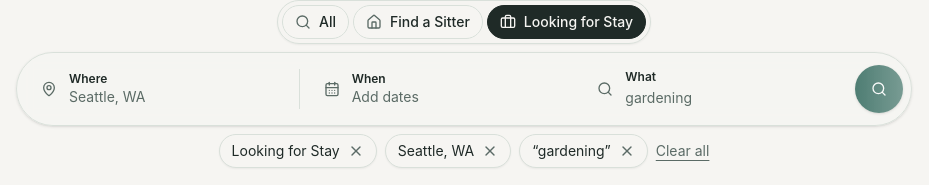
Test: <QuickSearch /> › renders chips from defaults and clears keyword chip
The width and height of the screenshot is (929, 185).
Expected: the 1st text "Seattle, WA" is shown, [69, 87, 146, 107]
Expected: the 1st text "Looking for Stay" is shown, [524, 12, 633, 32]
Click the button "“gardening”" at (583, 151), box [519, 134, 648, 168]
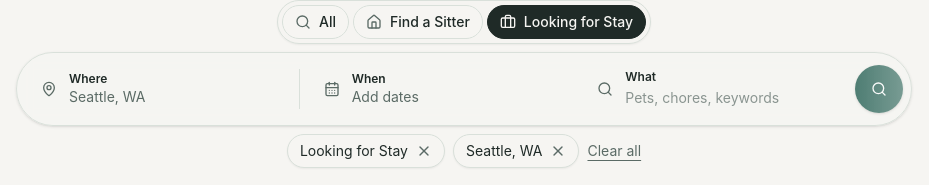
Now the field with placeholder "Pets, chores, keywords" is empty, box [625, 88, 831, 108]
